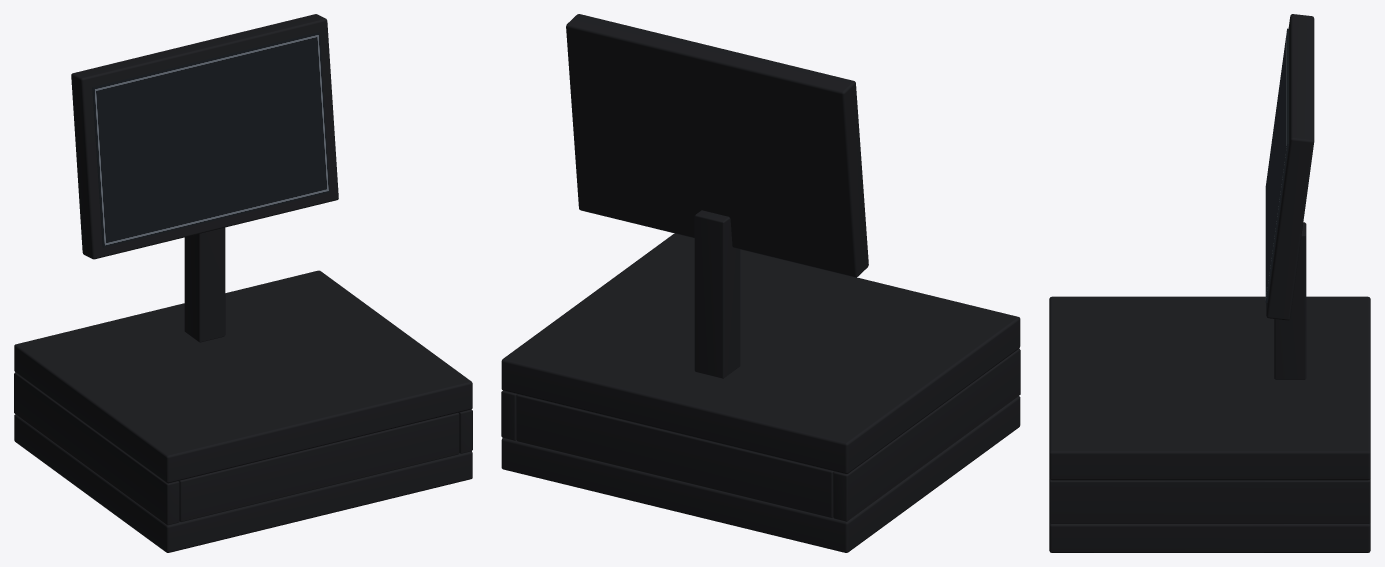
Rendered from sk_pos_till.glb.
3 renders of one model, left to right at view 1: azimuth 30°, elevation 25°; view 2: azimuth 150°, elevation 25°; view 3: azimuth 270°, elevation 25°, orthographic. The views are drawn at different scales.
Visible parts, largest first — view 1: sk_pos_till, drawer; view 2: sk_pos_till; view 3: sk_pos_till.
Boxes of the visible parts, bbox=[...] form: sk_pos_till: bbox=[14, 14, 472, 552]; drawer: bbox=[178, 412, 459, 522]; sk_pos_till: bbox=[501, 14, 1020, 552]; sk_pos_till: bbox=[1049, 14, 1370, 552].
Bounding box in the file's own units: 0.46 × 0.5495 × 0.4.
Materials: 3 (2 with a texture image).
